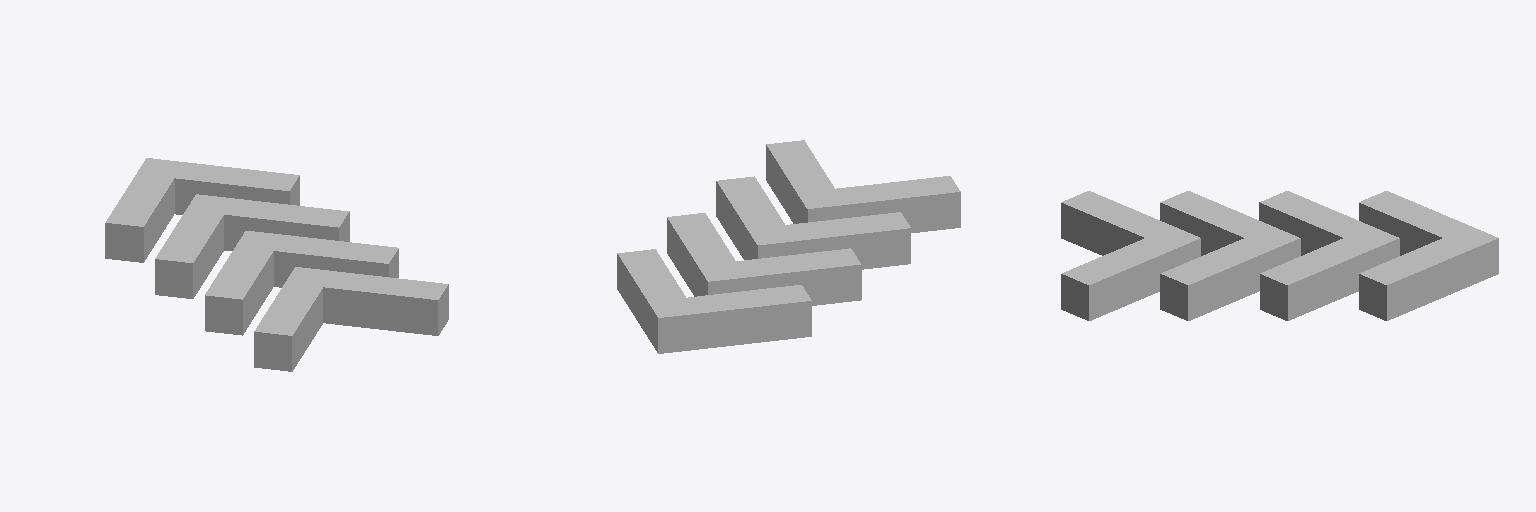
File: Arrows.obj
3 renders of one model, left to right at view 1: azimuth 30°, elevation 25°; view 2: azimuth 150°, elevation 25°; view 3: azimuth 270°, elevation 25°, orthographic.
Parts seen in each view (by area): view 1: Cube.001_Cube.014; view 2: Cube.001_Cube.014; view 3: Cube.001_Cube.014.
Boxes of the visible parts, x1,y1,x2,y2 form: Cube.001_Cube.014: [105, 158, 448, 371]; Cube.001_Cube.014: [617, 140, 960, 353]; Cube.001_Cube.014: [1061, 191, 1498, 320].
Bounding box in the file's own units: 0.5665 × 0.1 × 1.1.